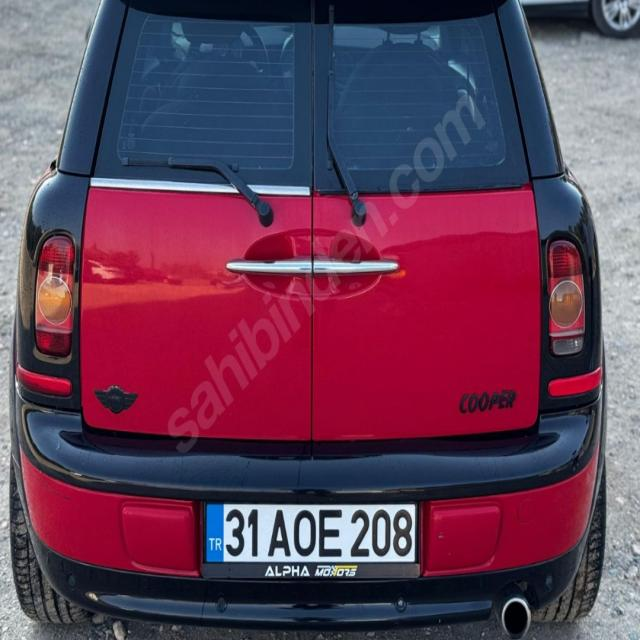mini: (86, 379, 144, 416)
